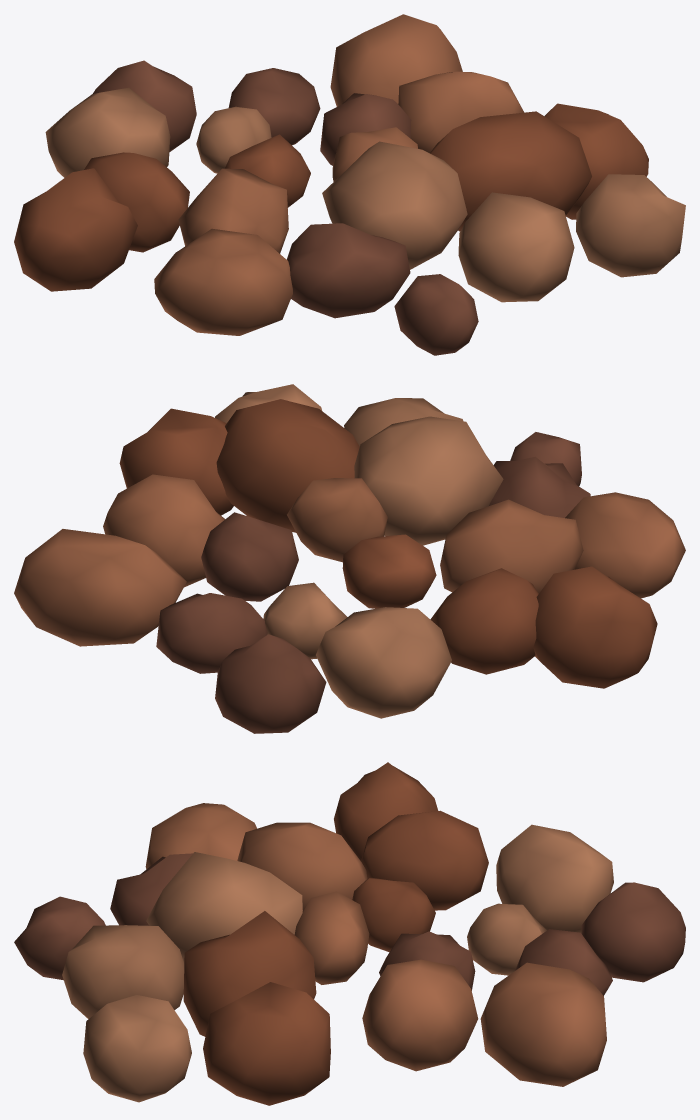
Rendered from clay_pebbles.glb.
The picture shows the model from 3 angles, top to bottom: view 1: azimuth 30°, elevation 25°; view 2: azimuth 150°, elevation 25°; view 3: azimuth 270°, elevation 25°; orthographic projection. The views are drawn at different scales.
Parts seen in each view (by area): view 1: clay_pebbles; view 2: clay_pebbles; view 3: clay_pebbles.
Boxes of the visible parts, x1,y1,x2,y2 form: clay_pebbles: [14, 14, 685, 355]; clay_pebbles: [14, 384, 685, 733]; clay_pebbles: [14, 762, 685, 1105].
Size of the model in its own units: 0.1871 by 0.0449 by 0.1914.
